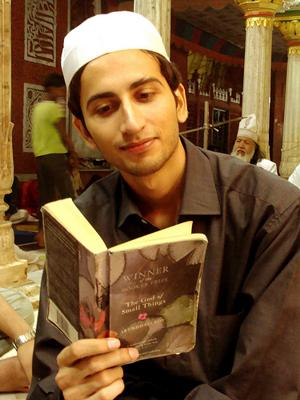person: (26, 11, 300, 400)
